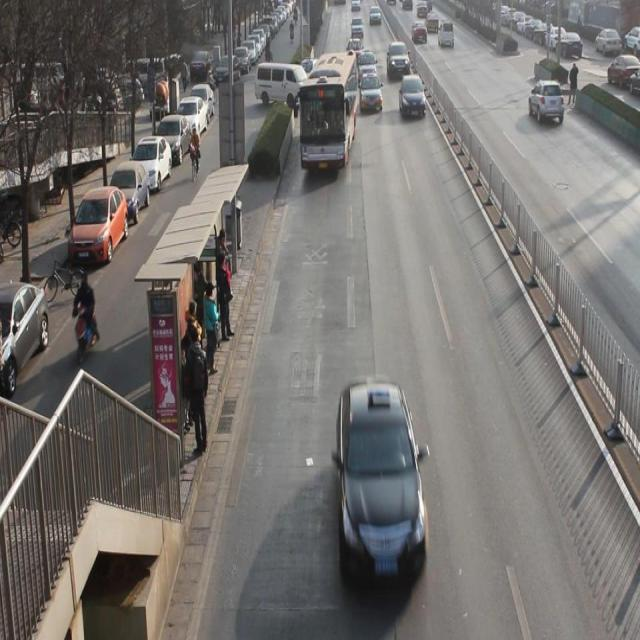car: (334, 381, 433, 578), (531, 82, 564, 126), (402, 77, 428, 119), (388, 44, 412, 82), (359, 54, 377, 86), (302, 57, 320, 85), (347, 37, 364, 64), (412, 21, 427, 43), (351, 18, 363, 36)
truck: (362, 75, 382, 110), (438, 21, 456, 49)
van: (300, 53, 358, 175)
